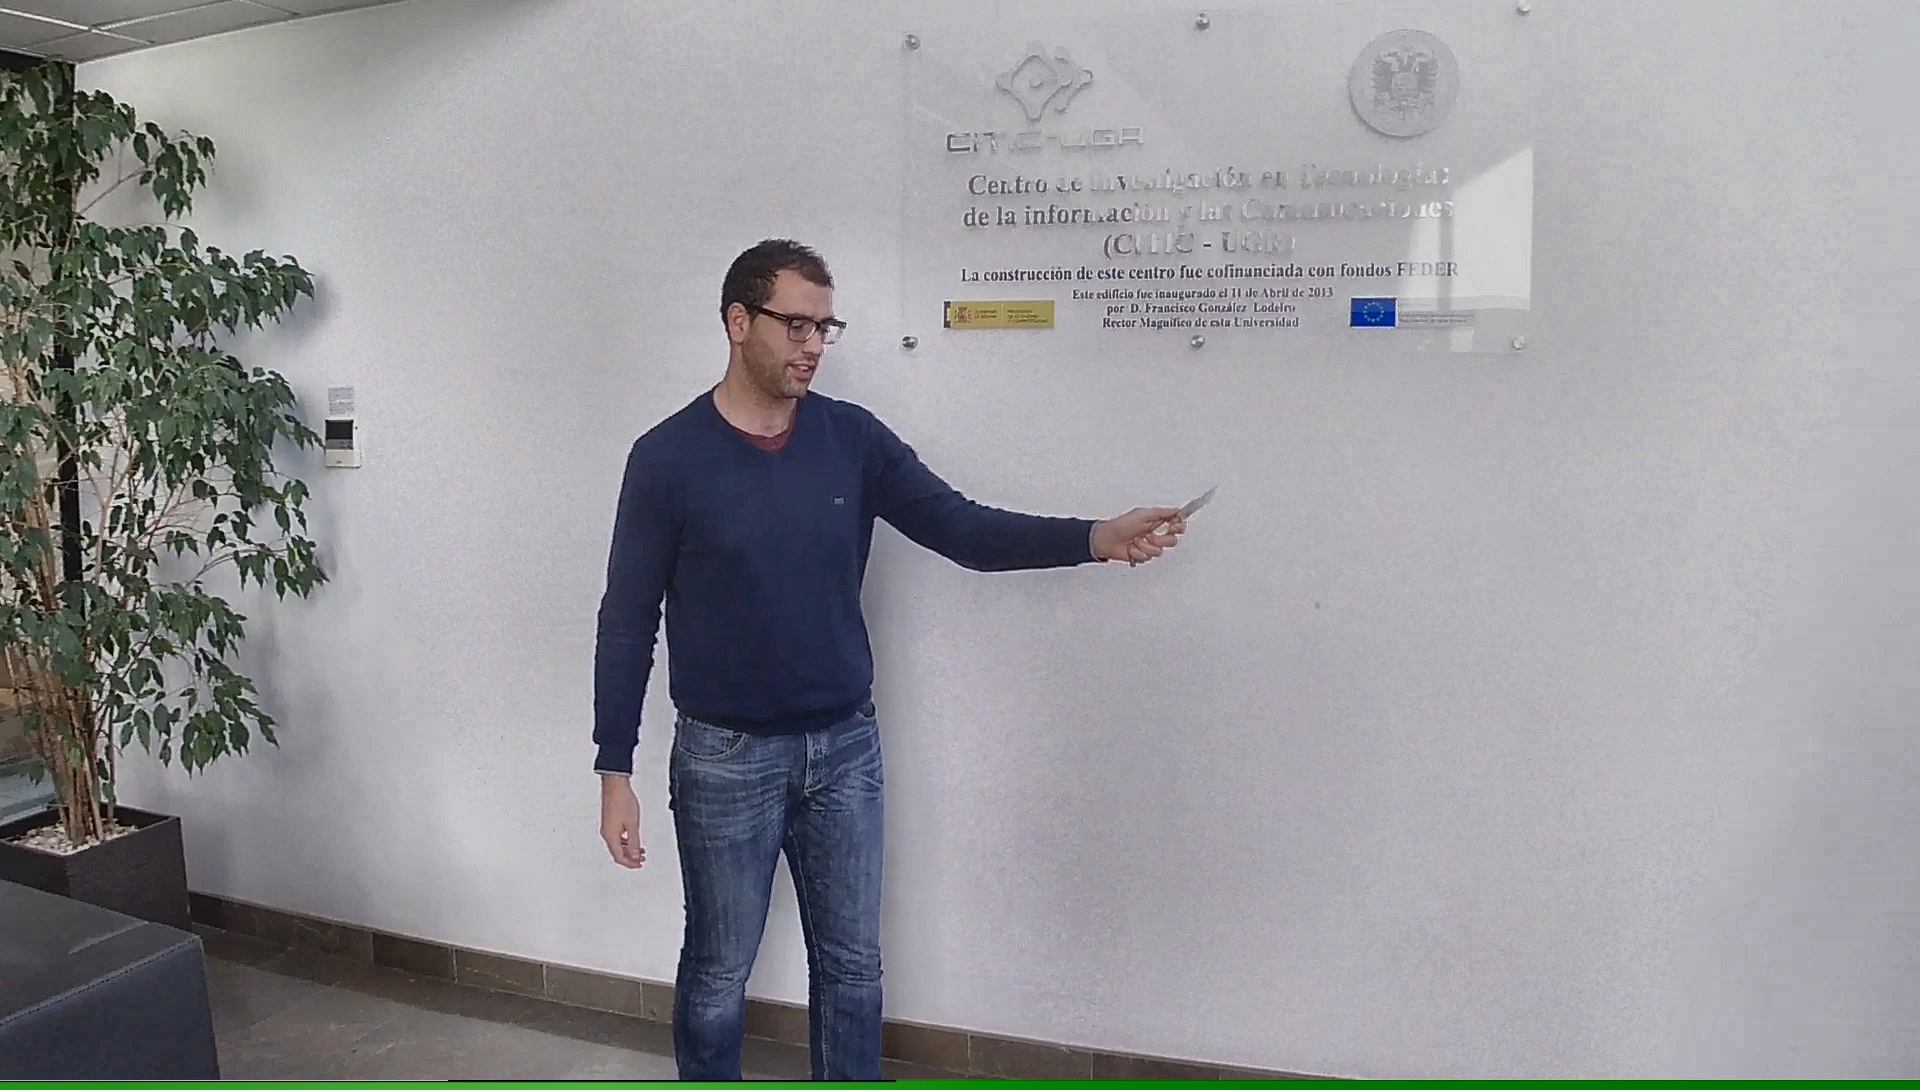knife: (1124, 474, 1228, 572)
